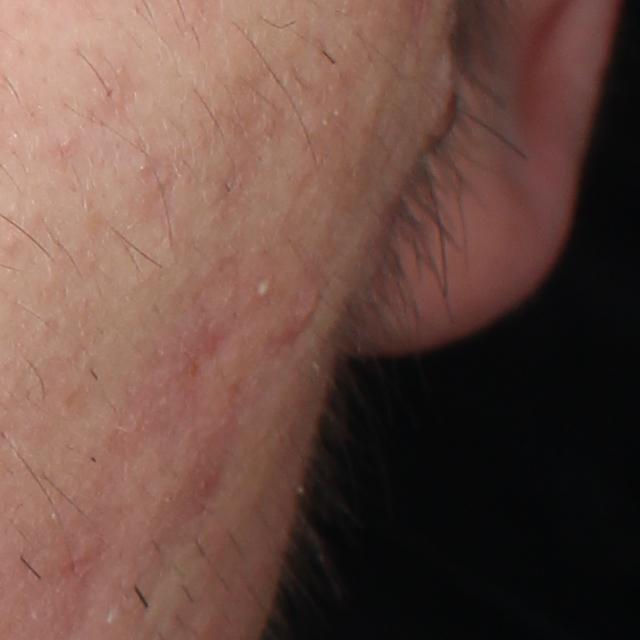pustule: (253, 270, 278, 300)
